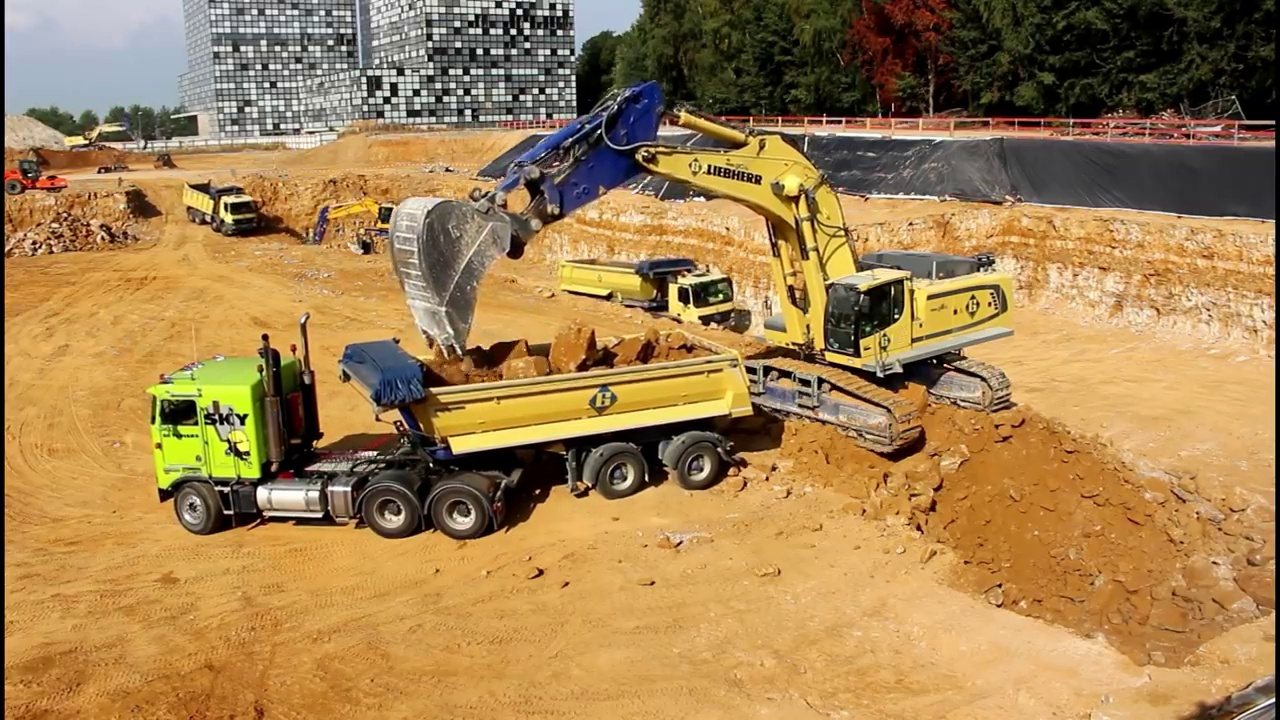compactor: (5, 159, 71, 195)
excavator: (383, 75, 1021, 457), (298, 195, 436, 268), (61, 119, 150, 162)
truck: (142, 309, 761, 545), (552, 257, 742, 355), (178, 176, 267, 244)
